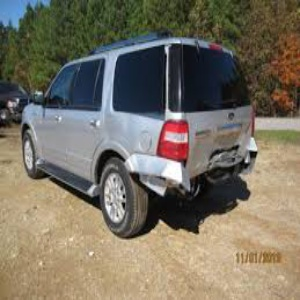bumper: (151, 158, 254, 201)
